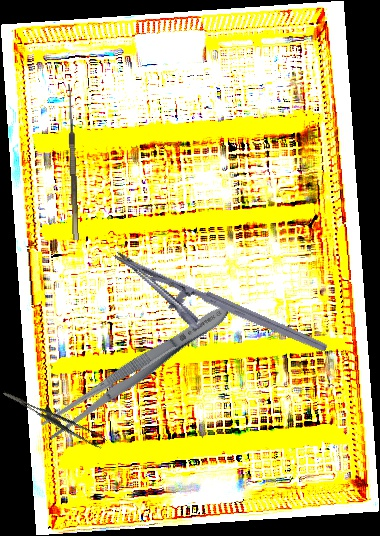Dressing Forceps: (38, 298, 235, 444)
Hook Surgical: (59, 83, 79, 241)
Needle Holder: (100, 249, 329, 382)
Tissue Forceps: (2, 375, 108, 459)
